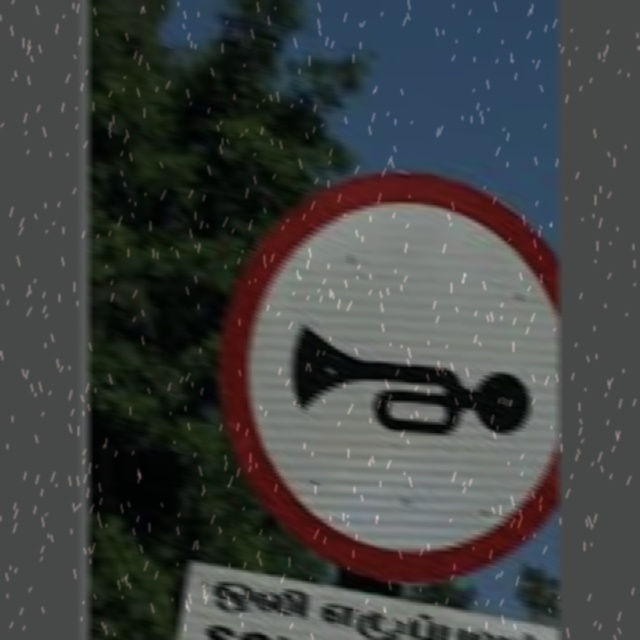Compulsory_Sound_Horn: (238, 181, 550, 534)
